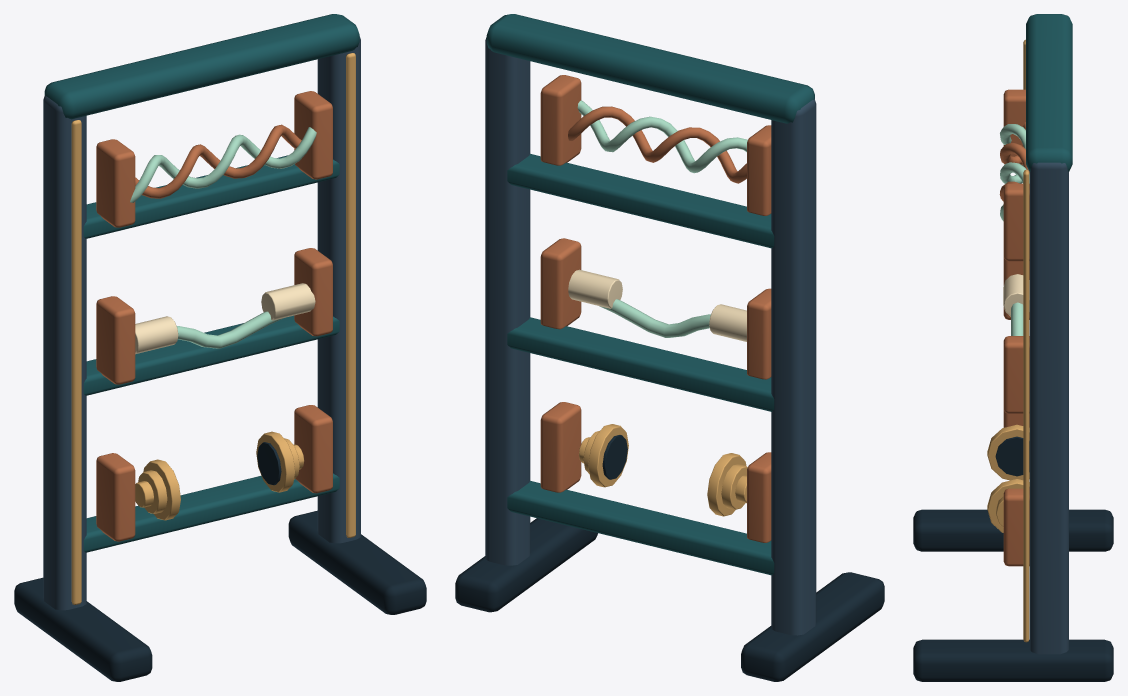
The picture shows the model from 3 angles, left to right: view 1: azimuth 30°, elevation 25°; view 2: azimuth 150°, elevation 25°; view 3: azimuth 270°, elevation 25°; orthographic projection. The views are drawn at different scales.
Parts seen in each view (by area): view 1: PR017 workshop assembly; view 2: PR017 workshop assembly; view 3: PR017 workshop assembly.
Part boxes in pixels (bbox=[...]): PR017 workshop assembly: bbox=[14, 14, 426, 681]; PR017 workshop assembly: bbox=[455, 14, 884, 681]; PR017 workshop assembly: bbox=[913, 14, 1113, 681].
Bounding box in the file's own units: 0.992 × 1.63 × 0.56.
